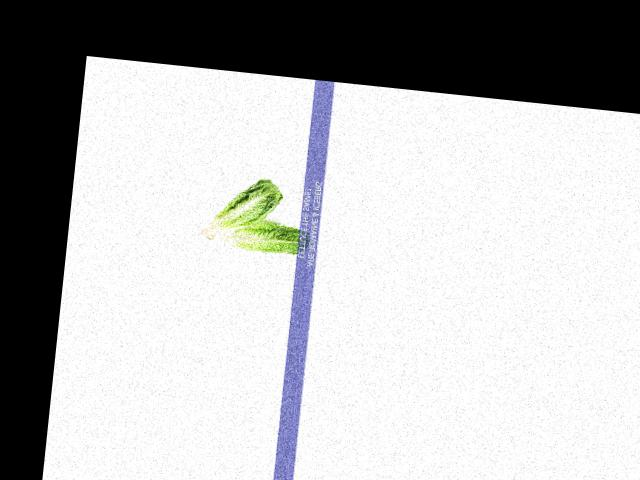lettuce: (190, 175, 288, 247)
